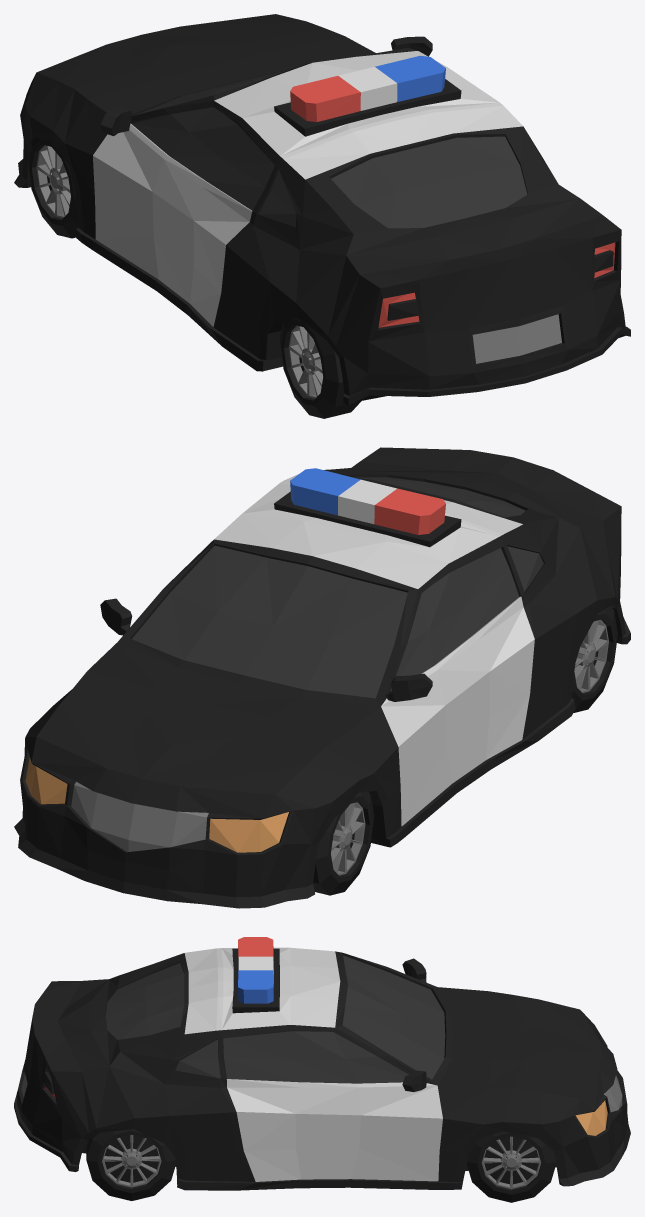
The model's file is Cop.glb.
3 renders of one model, top to bottom at view 1: azimuth 30°, elevation 25°; view 2: azimuth 150°, elevation 25°; view 3: azimuth 270°, elevation 25°, orthographic. The views are drawn at different scales.
Parts seen in each view (by area): view 1: Dark, Paint, Glass, TailLight, Wheel_RL_Tire, Trim, SirenBlue, Wheel_FL_Tire, Wheel_RL_Rim, Wheel_FL_Rim, SirenWhite; view 2: Dark, Glass, Paint, Trim, Headlight, TailLight, Wheel_FL_Tire, SirenBlue, Wheel_FL_Rim, Wheel_RL_Rim, SirenWhite, Wheel_RL_Tire; view 3: Dark, Paint, Glass, Wheel_RR_Tire, Wheel_FR_Tire, Wheel_RR_Rim, Wheel_FR_Rim, SirenBlue, TailLight, Headlight, SirenWhite, Trim.
Boxes of the visible parts, left/top/right/bottom form: Dark: left=14, top=14, right=630, bottom=405; Paint: left=93, top=51, right=522, bottom=326; Glass: left=131, top=75, right=527, bottom=228; TailLight: left=290, top=76, right=615, bottom=327; Wheel_RL_Tire: left=280, top=317, right=361, bottom=418; Trim: left=472, top=314, right=561, bottom=363; SirenBlue: left=375, top=55, right=445, bottom=101; Wheel_FL_Tire: left=27, top=137, right=78, bottom=238; Wheel_RL_Rim: left=288, top=325, right=323, bottom=398; Wheel_FL_Rim: left=36, top=145, right=70, bottom=218; SirenWhite: left=338, top=67, right=397, bottom=110; Dark: left=14, top=447, right=630, bottom=908; Glass: left=132, top=477, right=543, bottom=698; Paint: left=214, top=474, right=534, bottom=826; Trim: left=71, top=781, right=208, bottom=852; Headlight: left=25, top=757, right=288, bottom=852; TailLight: left=374, top=488, right=445, bottom=534; Wheel_FL_Tire: left=313, top=791, right=374, bottom=895; SirenBlue: left=290, top=468, right=360, bottom=515; Wheel_FL_Rim: left=331, top=802, right=365, bottom=875; Wheel_RL_Rim: left=574, top=620, right=608, bottom=692; SirenWhite: left=338, top=479, right=396, bottom=524; Wheel_RL_Tire: left=571, top=606, right=617, bottom=712; Dark: left=14, top=948, right=630, bottom=1190; Paint: left=184, top=947, right=442, bottom=1181; Glass: left=105, top=955, right=445, bottom=1083; Wheel_RR_Tire: left=86, top=1129, right=175, bottom=1200; Wheel_FR_Tire: left=466, top=1131, right=556, bottom=1202; Wheel_RR_Rim: left=102, top=1135, right=161, bottom=1187; Wheel_FR_Rim: left=481, top=1136, right=541, bottom=1189; SirenBlue: left=238, top=970, right=273, bottom=1003; TailLight: left=45, top=937, right=273, bottom=1098; Headlight: left=575, top=1100, right=607, bottom=1135; SirenWhite: left=238, top=956, right=273, bottom=983; Trim: left=21, top=1074, right=622, bottom=1112.
Bounding box in the file's own units: 1.78 × 1.24 × 3.73.
